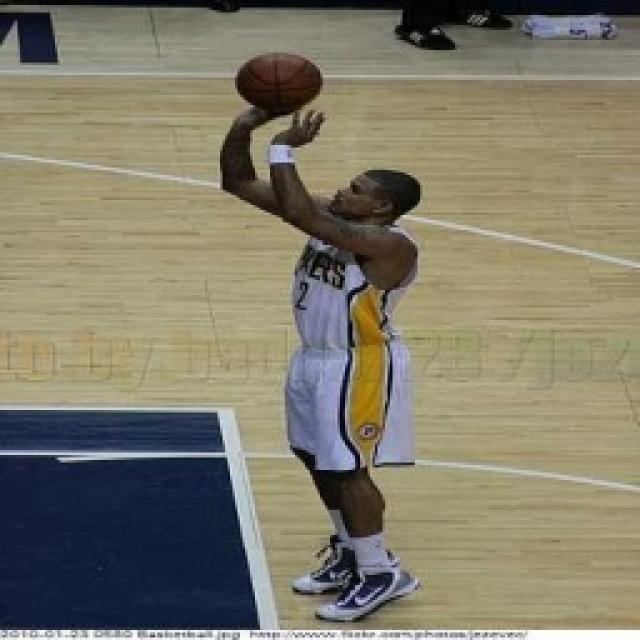basketball: (233, 45, 332, 119)
